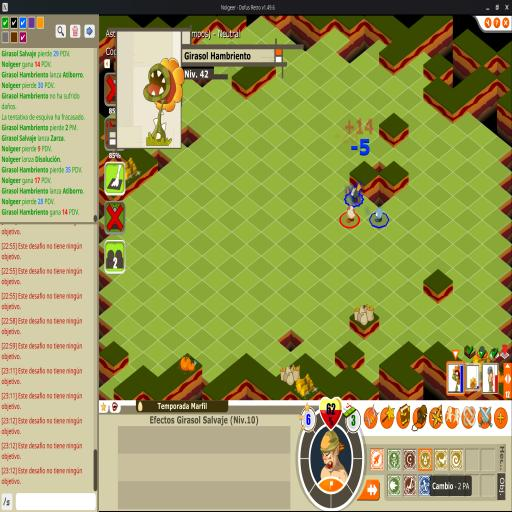Enemigos: (344, 182, 363, 205), (374, 204, 384, 222)
Personaje: (346, 204, 356, 224)
